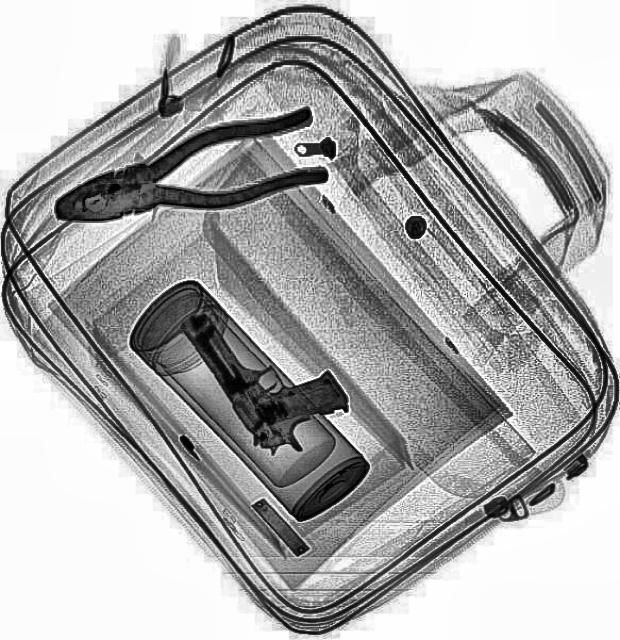Gun: (176, 266, 356, 472)
Pliers: (42, 100, 328, 250)
